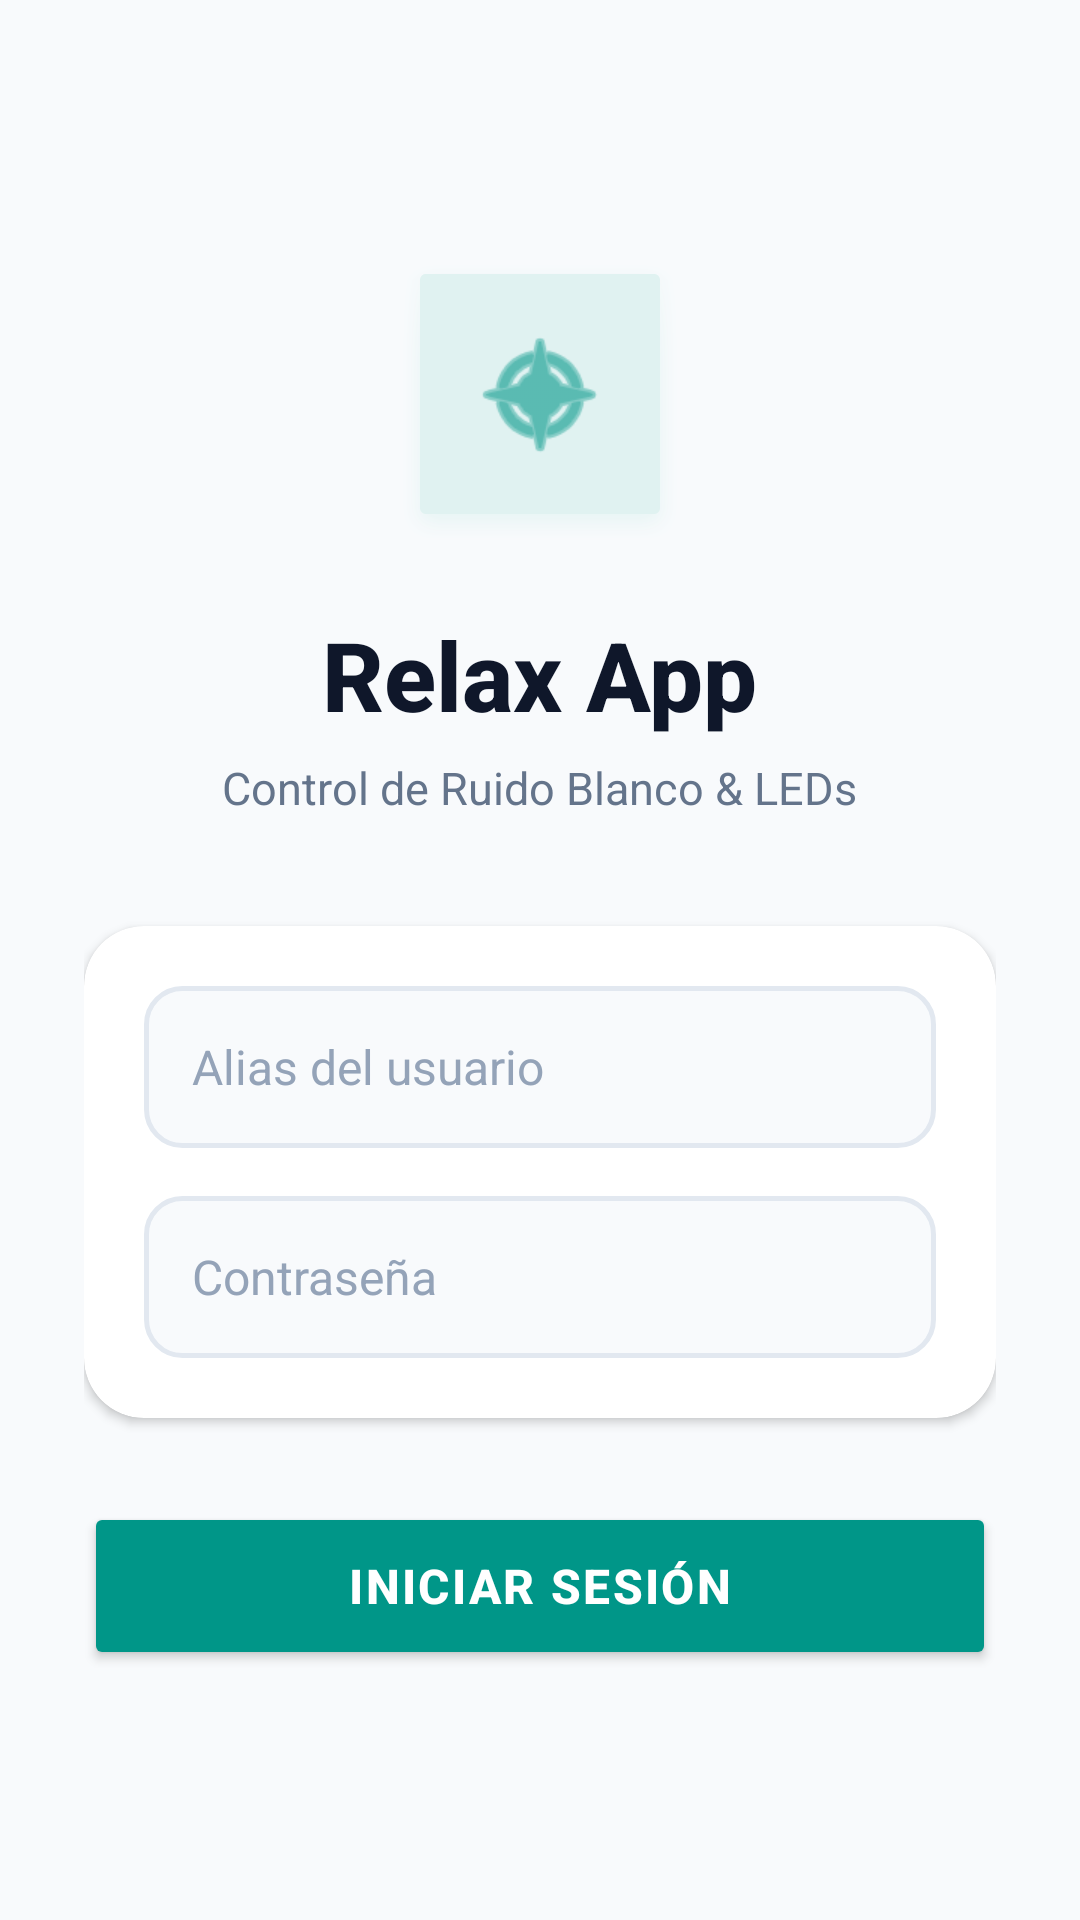

Icons on this 1080 x 1920 Android screen, each with its box as box(x1, y1, x2, y2):
Compass Icon: box(483, 338, 596, 452)
